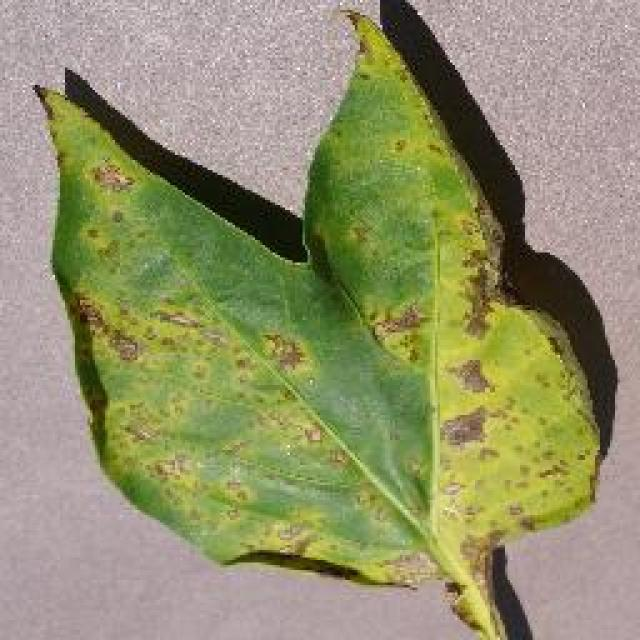Chilli_Bacterial_Spot: (28, 3, 608, 635), (295, 2, 605, 588), (70, 292, 142, 368), (365, 297, 430, 365), (255, 328, 310, 378), (438, 402, 490, 450), (87, 158, 135, 198), (450, 355, 495, 397), (148, 298, 202, 332), (297, 420, 325, 448)
